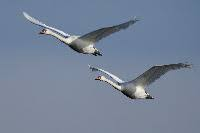swan: (23, 12, 140, 58), (89, 63, 192, 100)
